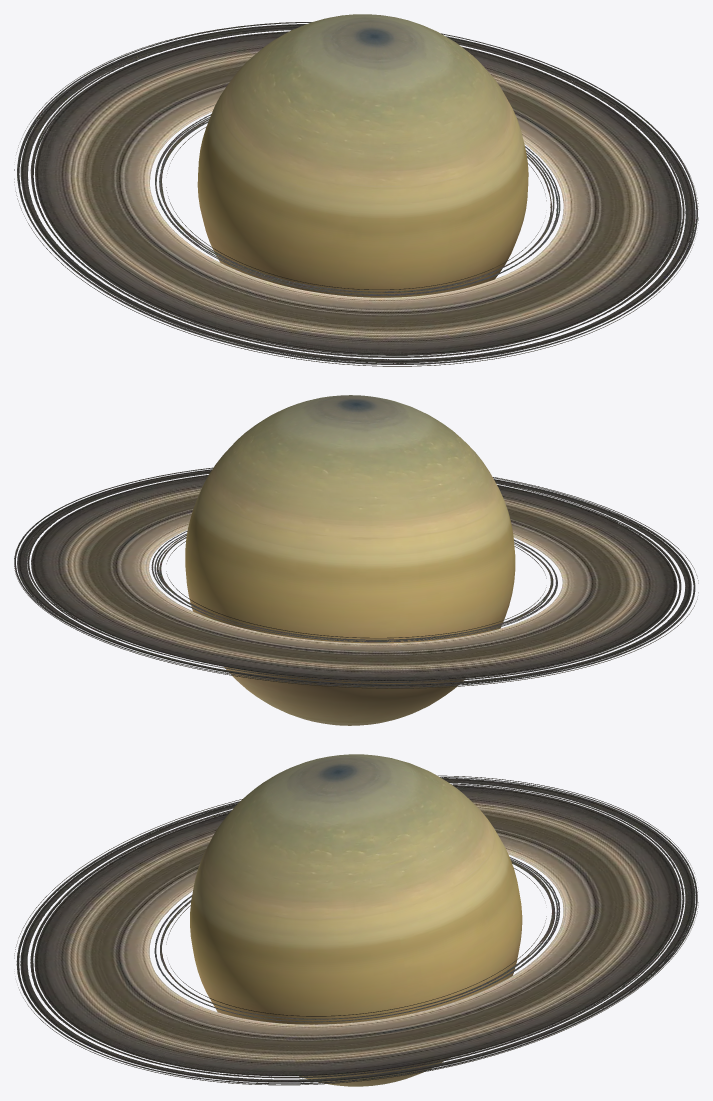
Rendered from saturn_comp.glb.
3 views of the same model, one above another, from view 1: azimuth 30°, elevation 25°; view 2: azimuth 150°, elevation 25°; view 3: azimuth 270°, elevation 25° (orthographic).
Visible parts, largest first — view 1: saturn_rings_GEO_n3d, saturn_GEO_n3d; view 2: saturn_GEO_n3d, saturn_rings_GEO_n3d; view 3: saturn_rings_GEO_n3d, saturn_GEO_n3d.
Boxes of the visible parts, box(x1,y1,x2,y2) form: saturn_rings_GEO_n3d: box(14, 22, 698, 366); saturn_GEO_n3d: box(197, 14, 528, 297); saturn_GEO_n3d: box(185, 395, 515, 725); saturn_rings_GEO_n3d: box(14, 467, 698, 688); saturn_rings_GEO_n3d: box(14, 775, 698, 1085); saturn_GEO_n3d: box(190, 754, 522, 1086).
Bounding box in the file's own units: 0.3384 × 0.1633 × 0.3365.
Materials: 2 (2 with a texture image).
